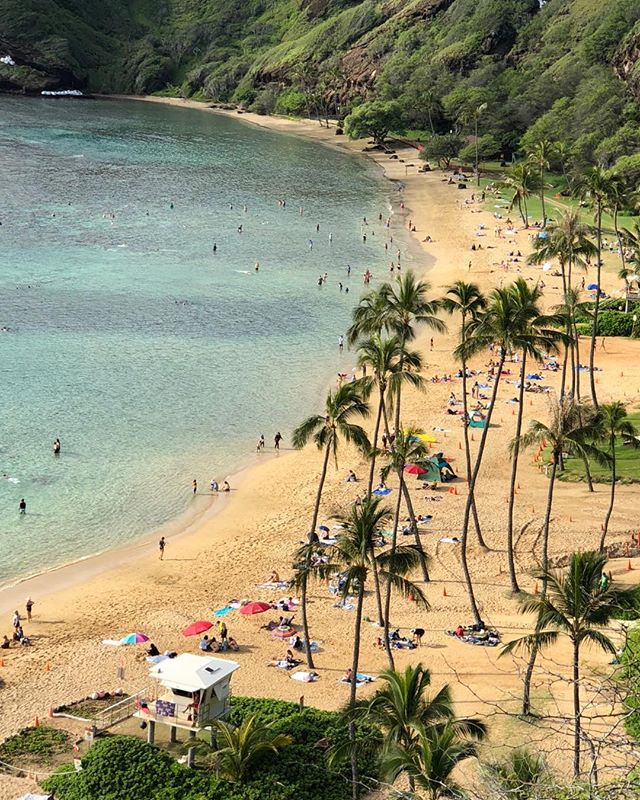beach: (39, 195, 618, 749)
sea: (1, 104, 364, 585)
vegetation: (189, 1, 618, 169)
